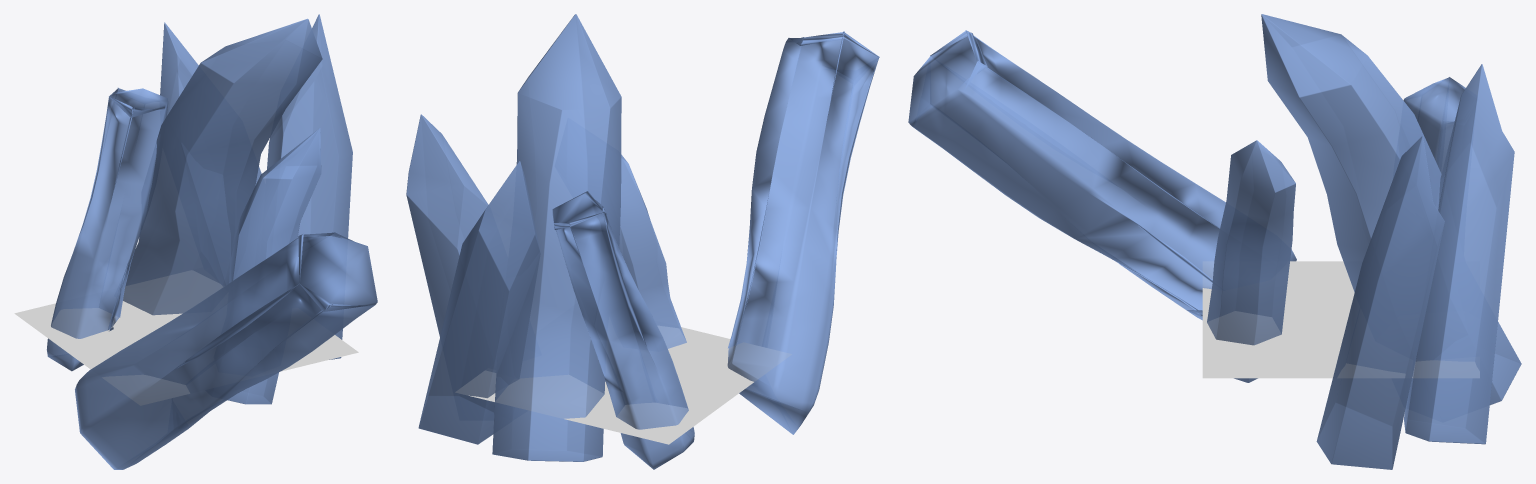
File: Crystals2.fbx
The picture shows the model from 3 angles, left to right: view 1: azimuth 30°, elevation 25°; view 2: azimuth 150°, elevation 25°; view 3: azimuth 270°, elevation 25°; orthographic projection. The views are drawn at different scales.
Visible parts, largest first — view 1: Crystals2|Crystal1|Dupli|4, Crystals2|Crystal3|Dupli|5, Crystals2|Crystal1|Dupli|1, Crystals2, Crystals2|Crystal2|Dupli|, Crystals2|Crystal3|Dupli|2, Crystals2|Crystal2|Dupli|3; view 2: Crystals2|Crystal3|Dupli|5, Crystals2|Crystal1|Dupli|4, Crystals2|Crystal2|Dupli|3, Crystals2|Crystal1|Dupli|1, Crystals2, Crystals2|Crystal2|Dupli|, Crystals2|Crystal3|Dupli|2; view 3: Crystals2|Crystal1|Dupli|4, Crystals2|Crystal3|Dupli|5, Crystals2|Crystal2|Dupli|3, Crystals2|Crystal2|Dupli|, Crystals2, Crystals2|Crystal3|Dupli|2, Crystals2|Crystal1|Dupli|1.
Boxes of the visible parts, x1,y1,x2,y2 form: Crystals2|Crystal1|Dupli|4: (75,232,377,469); Crystals2|Crystal3|Dupli|5: (123,18,322,315); Crystals2|Crystal1|Dupli|1: (46,87,168,371); Crystals2: (14,270,358,405); Crystals2|Crystal2|Dupli|: (267,14,352,359); Crystals2|Crystal3|Dupli|2: (227,128,321,404); Crystals2|Crystal2|Dupli|3: (160,22,261,285); Crystals2|Crystal3|Dupli|5: (492,14,621,461); Crystals2|Crystal1|Dupli|4: (727,31,879,434); Crystals2|Crystal2|Dupli|3: (418,161,540,444); Crystals2|Crystal1|Dupli|1: (552,191,694,469); Crystals2: (456,326,791,444); Crystals2|Crystal2|Dupli|: (406,114,488,336); Crystals2|Crystal3|Dupli|2: (619,154,686,348); Crystals2|Crystal1|Dupli|4: (908,30,1296,320); Crystals2|Crystal3|Dupli|5: (1261,14,1521,405); Crystals2|Crystal2|Dupli|3: (1404,64,1514,444); Crystals2|Crystal2|Dupli|: (1316,136,1444,469); Crystals2: (1202,261,1479,378); Crystals2|Crystal3|Dupli|2: (1207,140,1295,382); Crystals2|Crystal1|Dupli|1: (1399,77,1465,181).
Size of the model in its own units: 185 by 208 by 269.
